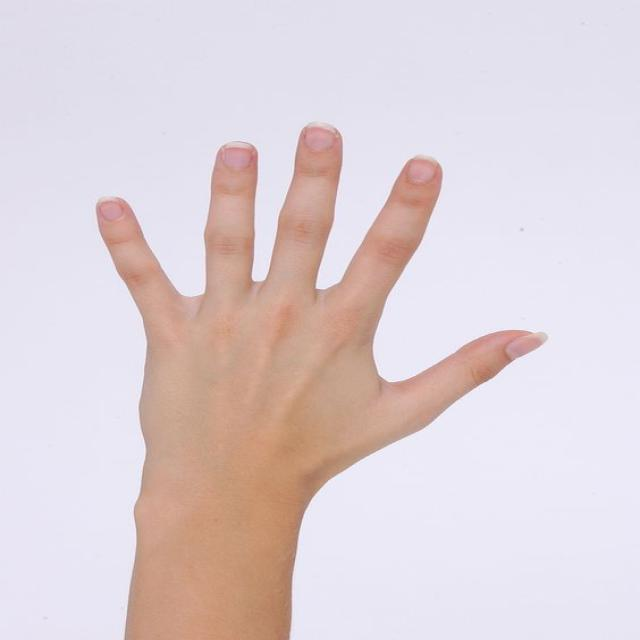Fingernail: (506, 332, 549, 363), (304, 122, 337, 153), (408, 155, 438, 188), (222, 143, 253, 171), (99, 197, 123, 223)
